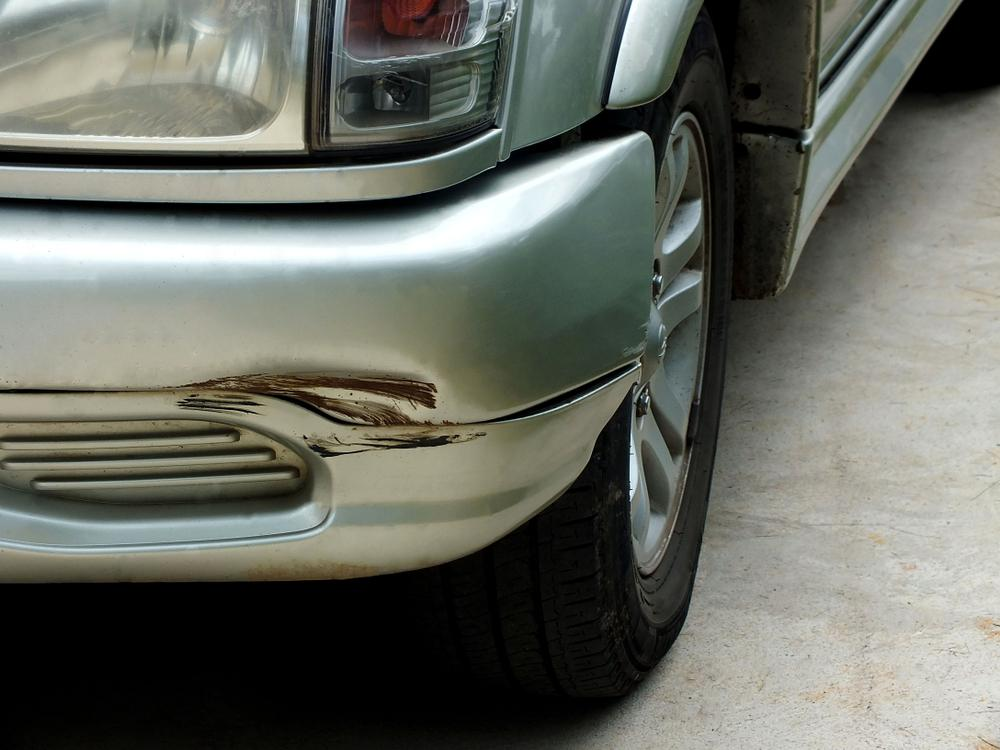dent: (216, 352, 468, 425)
scratch: (302, 428, 495, 458), (172, 384, 273, 416)
